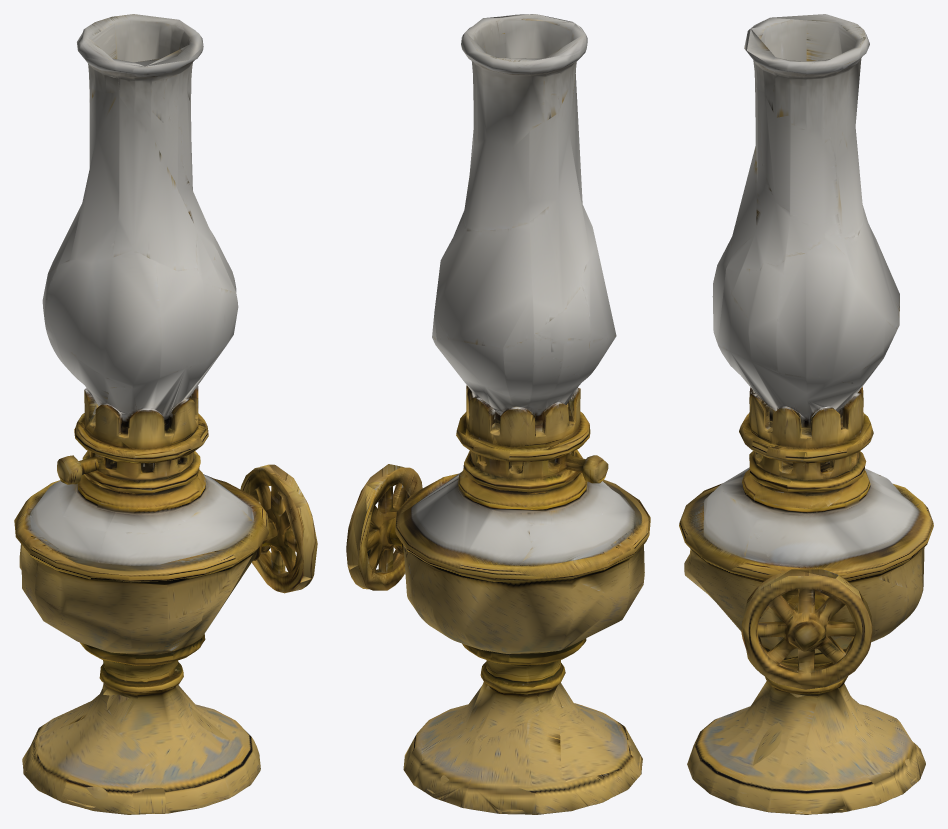
Rendered from lhi_oil_lamp.glb.
3 views of the same model, side by side, from view 1: azimuth 30°, elevation 25°; view 2: azimuth 150°, elevation 25°; view 3: azimuth 270°, elevation 25° (orthographic).
Visible parts, largest first — view 1: material; view 2: material; view 3: material.
Part boxes in pixels (x1,y1,x2,y2): material: (14, 14, 317, 814); material: (346, 14, 650, 814); material: (679, 14, 933, 814).
Bounding box in the file's own units: 0.4251 × 1.13 × 0.3593.
1 material, 1 textured.
